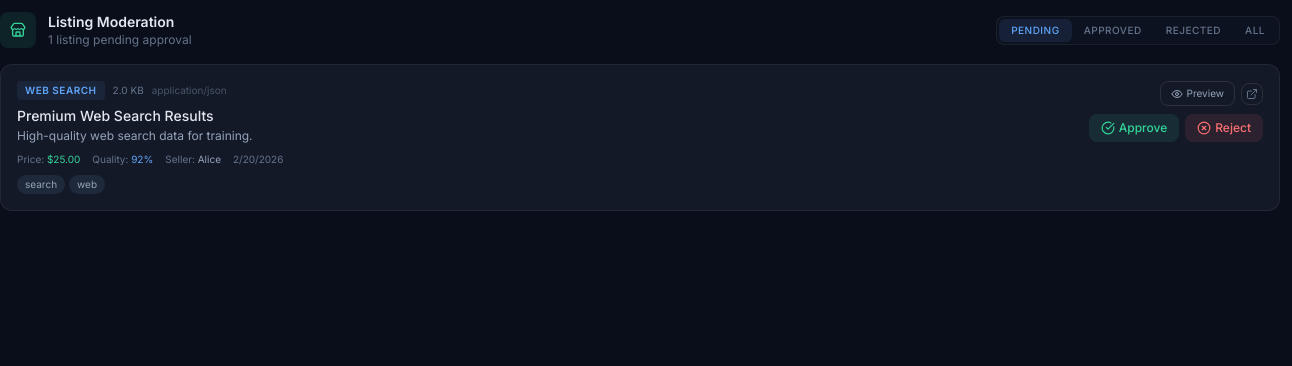
ListingModeration › content preview toggles off when Preview is clicked again
Click the button "Preview" at (1197, 94), box [1160,81,1235,106]
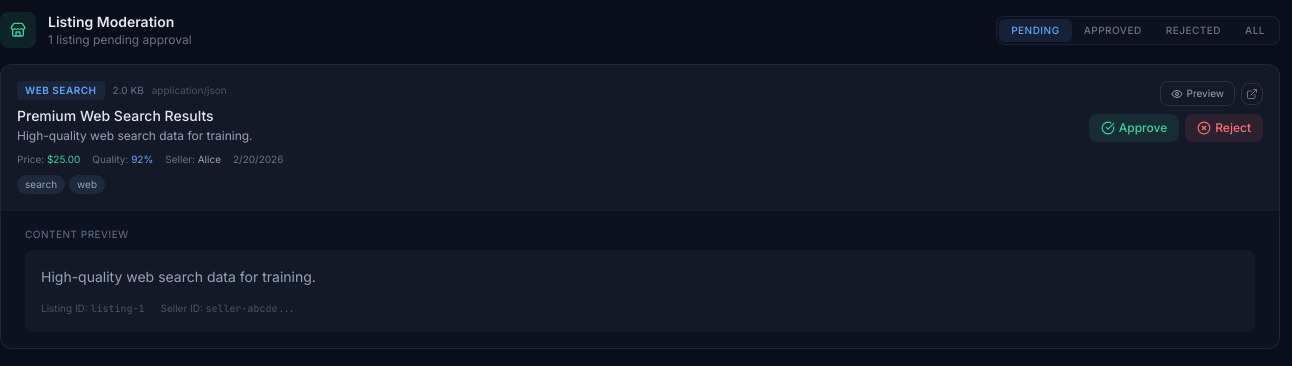
Result: the text "Content Preview" is shown at [25,228,128,240]
Click the button "Preview" at (1197, 94), box [1160,81,1235,106]
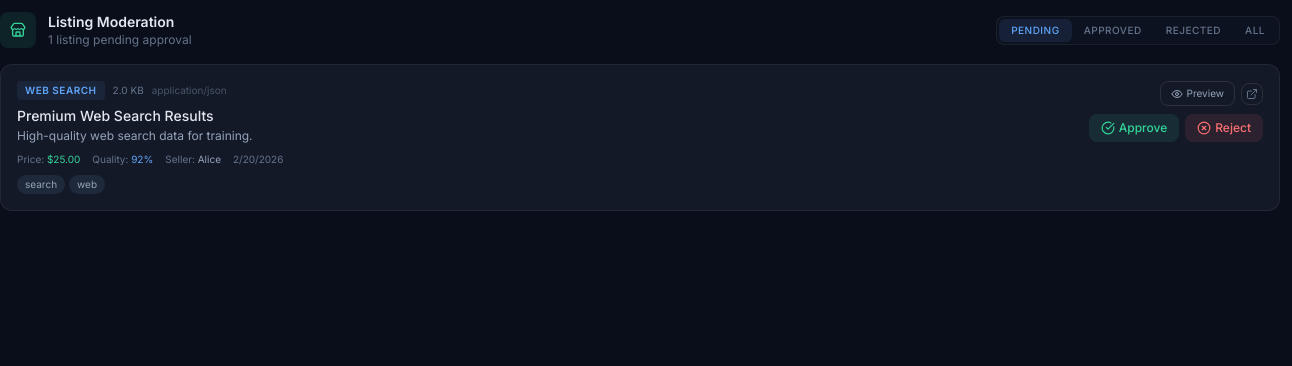
Result: the text "Content Preview" is gone
